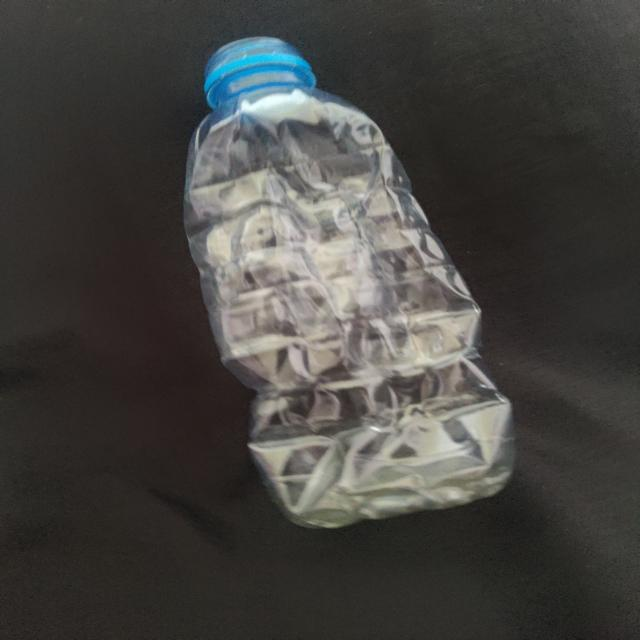plastic: (191, 42, 517, 506)
